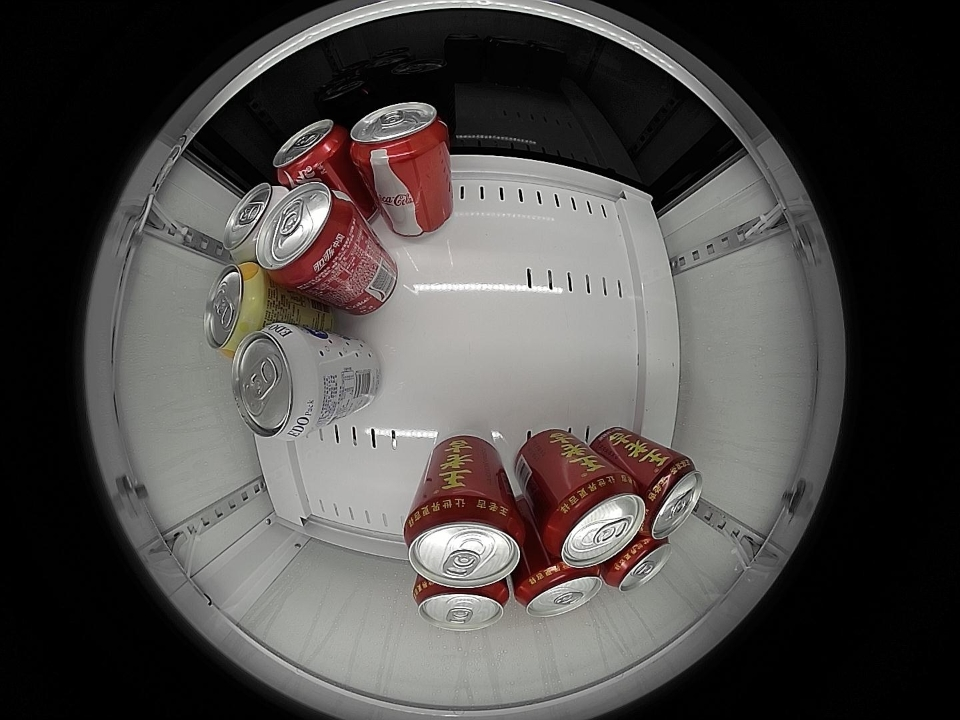kele: (257, 180, 356, 288), (349, 102, 448, 166), (273, 119, 348, 183)
mangguoxiaolao: (203, 263, 269, 352)
rusuanjunqishui: (231, 323, 327, 441), (223, 181, 281, 260)
wanglaoji-c: (404, 493, 525, 589), (542, 472, 646, 567), (639, 456, 704, 540), (517, 562, 603, 619), (414, 579, 510, 630), (606, 534, 673, 592)
